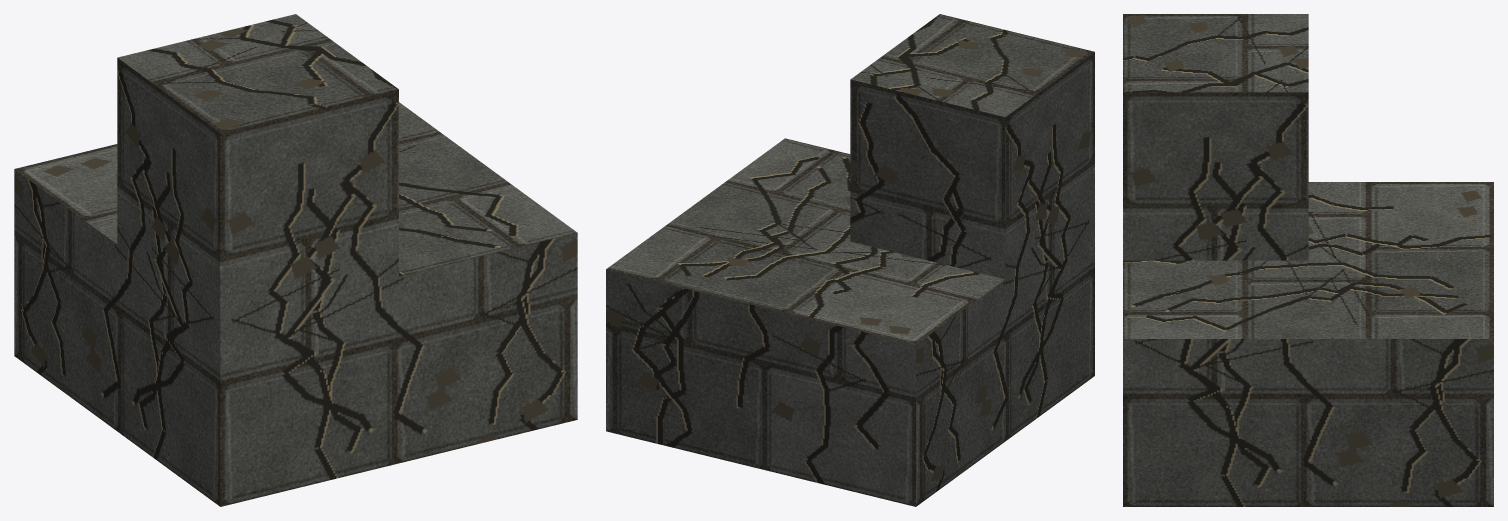
The model's file is mount_z3.glb.
The picture shows the model from 3 angles, left to right: view 1: azimuth 30°, elevation 25°; view 2: azimuth 150°, elevation 25°; view 3: azimuth 270°, elevation 25°; orthographic projection. The views are drawn at different scales.
Visible parts, largest first — view 1: mount_z3; view 2: mount_z3; view 3: mount_z3.
Part boxes in pixels (x1,y1,x2,y2): mount_z3: (14,14,577,506); mount_z3: (606,14,1094,506); mount_z3: (1123,14,1493,506).
Size of the model in its own units: 1 by 1 by 1.
Materials: 1 (1 with a texture image).
